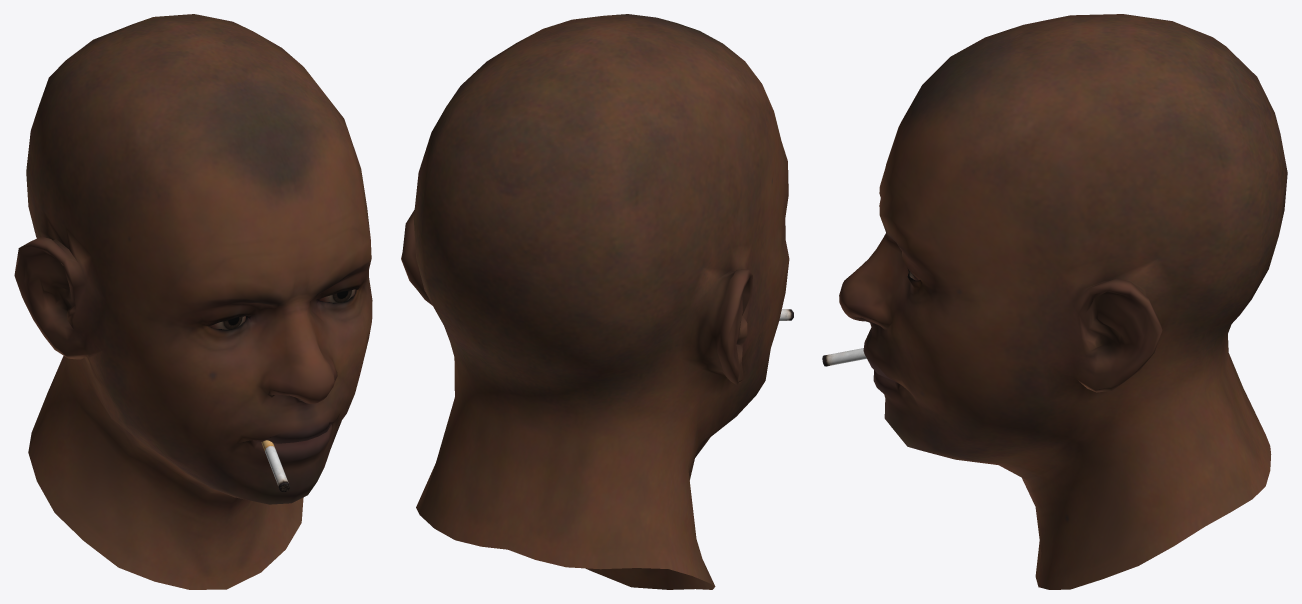
The model's file is africanmalehead.gltf.
3 renders of one model, left to right at view 1: azimuth 30°, elevation 25°; view 2: azimuth 150°, elevation 25°; view 3: azimuth 270°, elevation 25°, orthographic. The views are drawn at different scales.
Visible parts, largest first — view 1: face, cigarette; view 2: face; view 3: face.
Boxes of the visible parts, left/top/right/bottom form: face: left=14, top=14, right=372, bottom=589; cigarette: left=261, top=440, right=289, bottom=491; face: left=401, top=14, right=789, bottom=589; face: left=839, top=14, right=1287, bottom=589.
Bounding box in the file's own units: 20.51 × 33.79 × 26.05.
2 materials, 2 textured.
